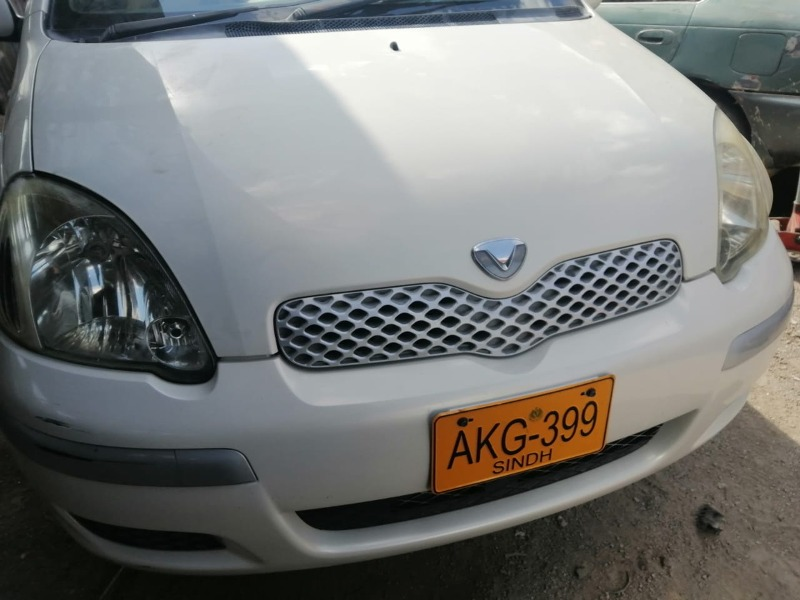License Plate: (435, 377, 614, 496)
